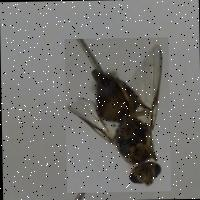Oriental-fruit-fly: (63, 36, 170, 192)
